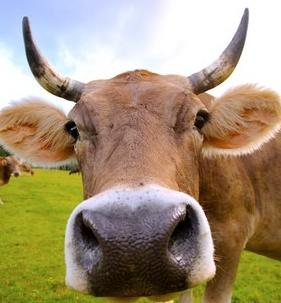muzzles: (57, 199, 224, 300)
